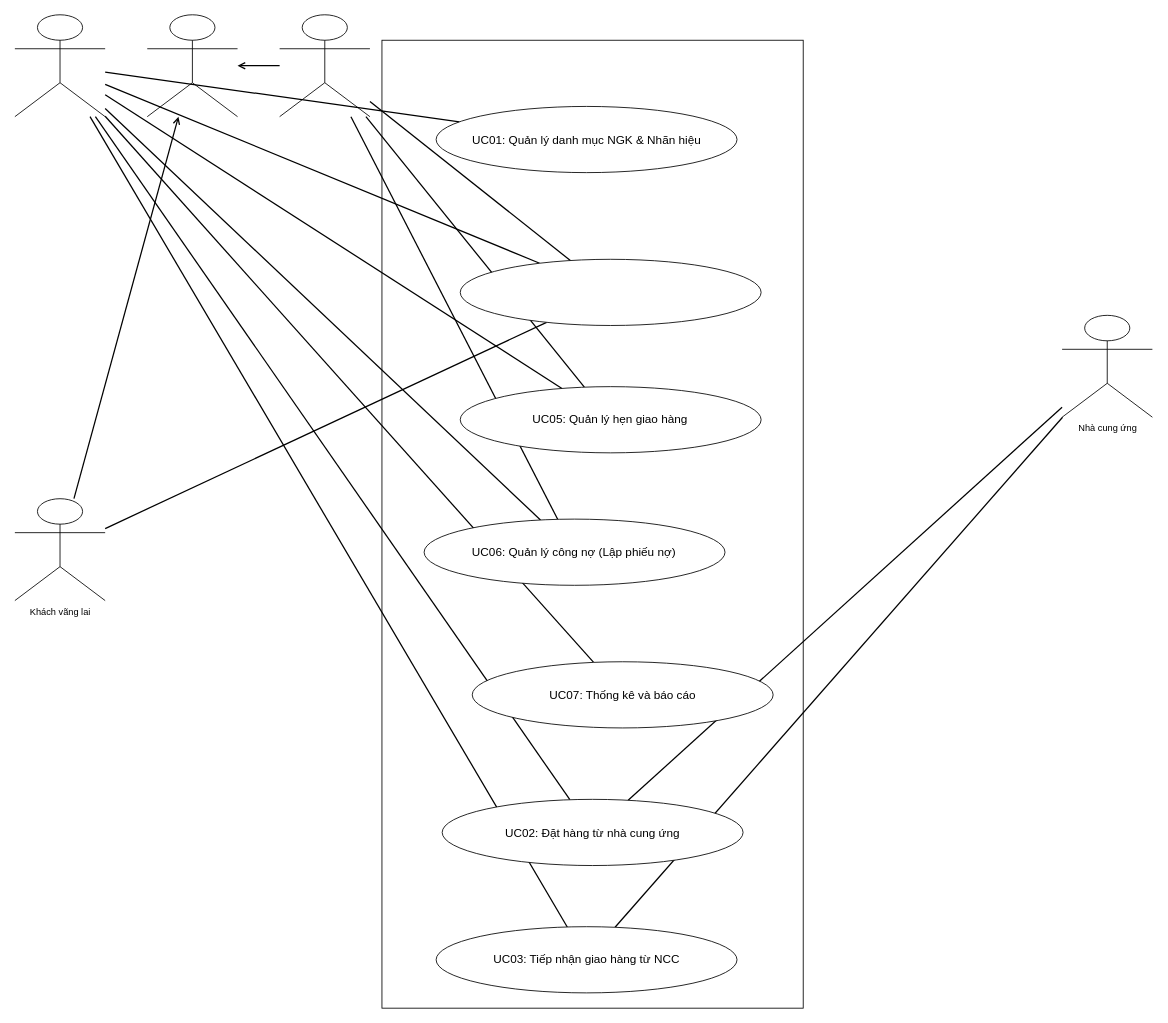
The diagram is 1168 pixels wide and 1023 high, and some of its shapes have lost their labels. Here are the shapes that lost their labels. From the top down, the centre of each, then its label:
At (x=59, y=65): "Nhân viên".
At (x=192, y=65): "Khách hàng".
At (x=324, y=65): "Khách quen".
At (x=610, y=292): "UC04: Bán hàng và thanh toán".
